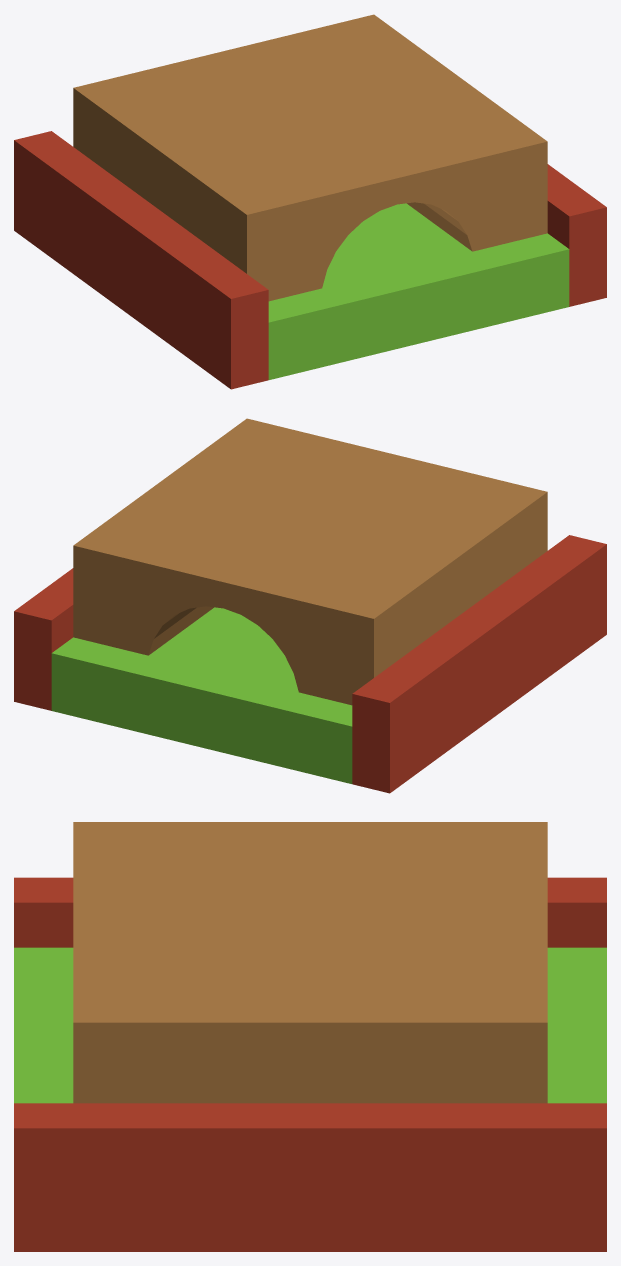
File: Tunnel_Wide.FBX
3 renders of one model, top to bottom at view 1: azimuth 30°, elevation 25°; view 2: azimuth 150°, elevation 25°; view 3: azimuth 270°, elevation 25°, orthographic. The views are drawn at different scales.
Parts seen in each view (by area): view 1: Obstacle, Walls, Tunnel_wide_01; view 2: Obstacle, Walls, Tunnel_wide_01; view 3: Obstacle, Walls, Tunnel_wide_01.
Boxes of the visible parts, x1,y1,x2,y2 form: Obstacle: (73, 14, 569, 301); Walls: (14, 131, 606, 389); Tunnel_wide_01: (268, 203, 569, 379); Obstacle: (51, 418, 547, 705); Walls: (14, 535, 606, 793); Tunnel_wide_01: (51, 607, 352, 783); Obstacle: (14, 822, 606, 1103); Walls: (14, 877, 606, 1251); Tunnel_wide_01: (14, 947, 606, 1103).
Size of the model in its own units: 0.9999 by 0.9999 by 0.38.
